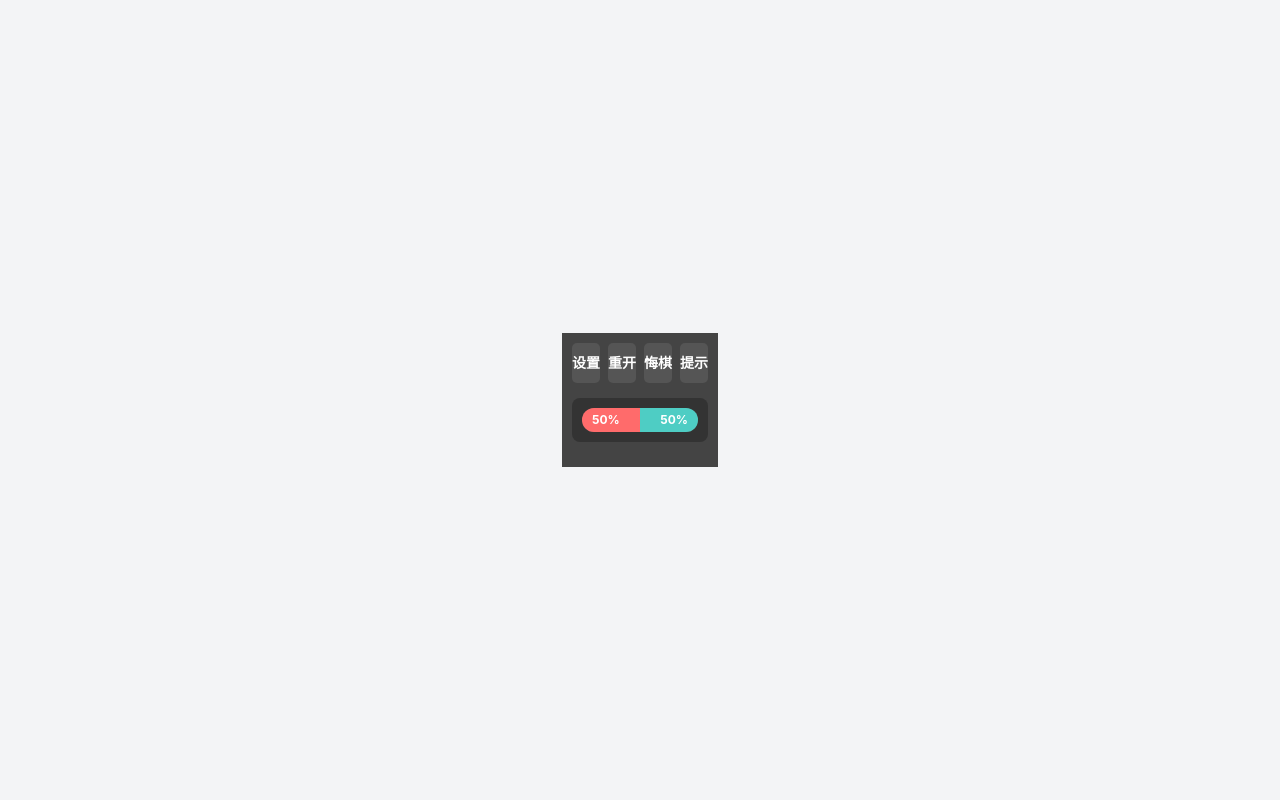
Test: UI Component › 按钮交互 › 点击设置按钮应该打开设置模态框
Click the button "设置".
click(586, 363)  # box x1=572 y1=343 x2=600 y2=383
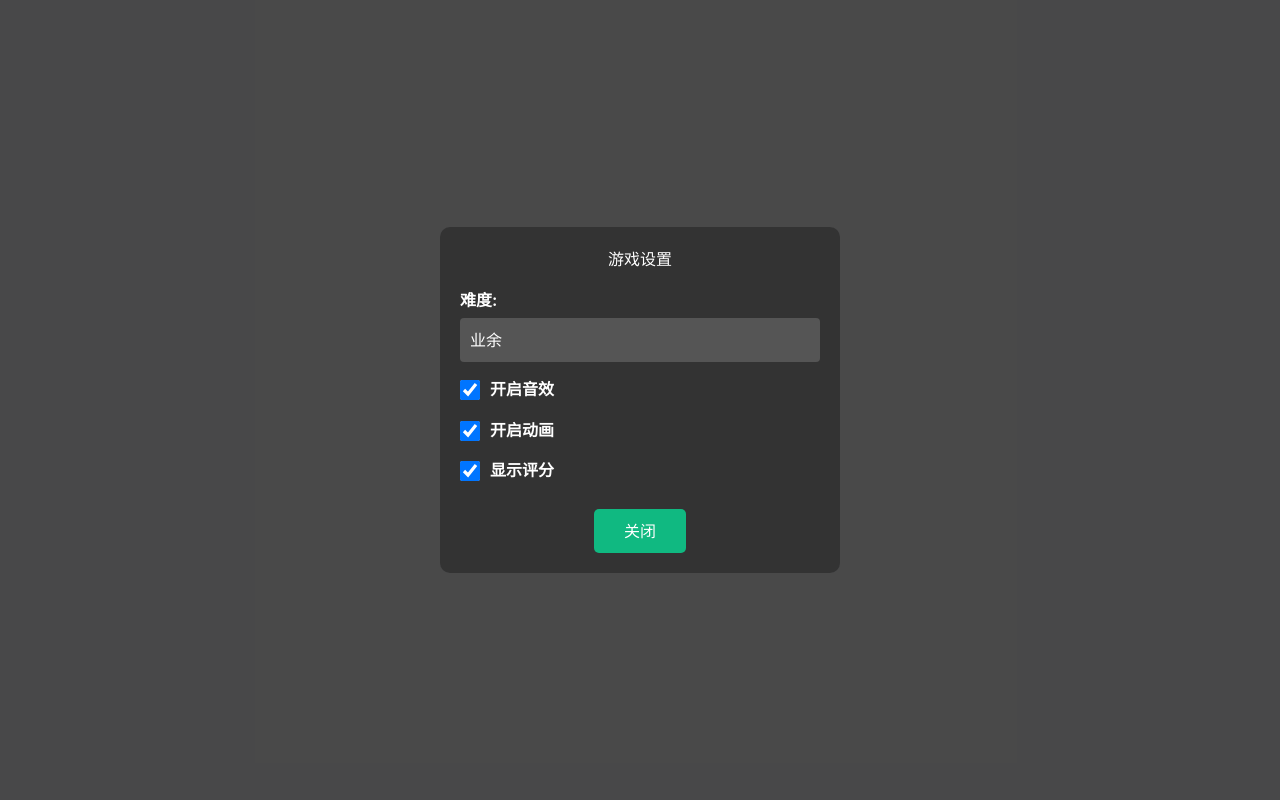
Now the heading "游戏设置" is shown, box x1=608 y1=249 x2=672 y2=269
